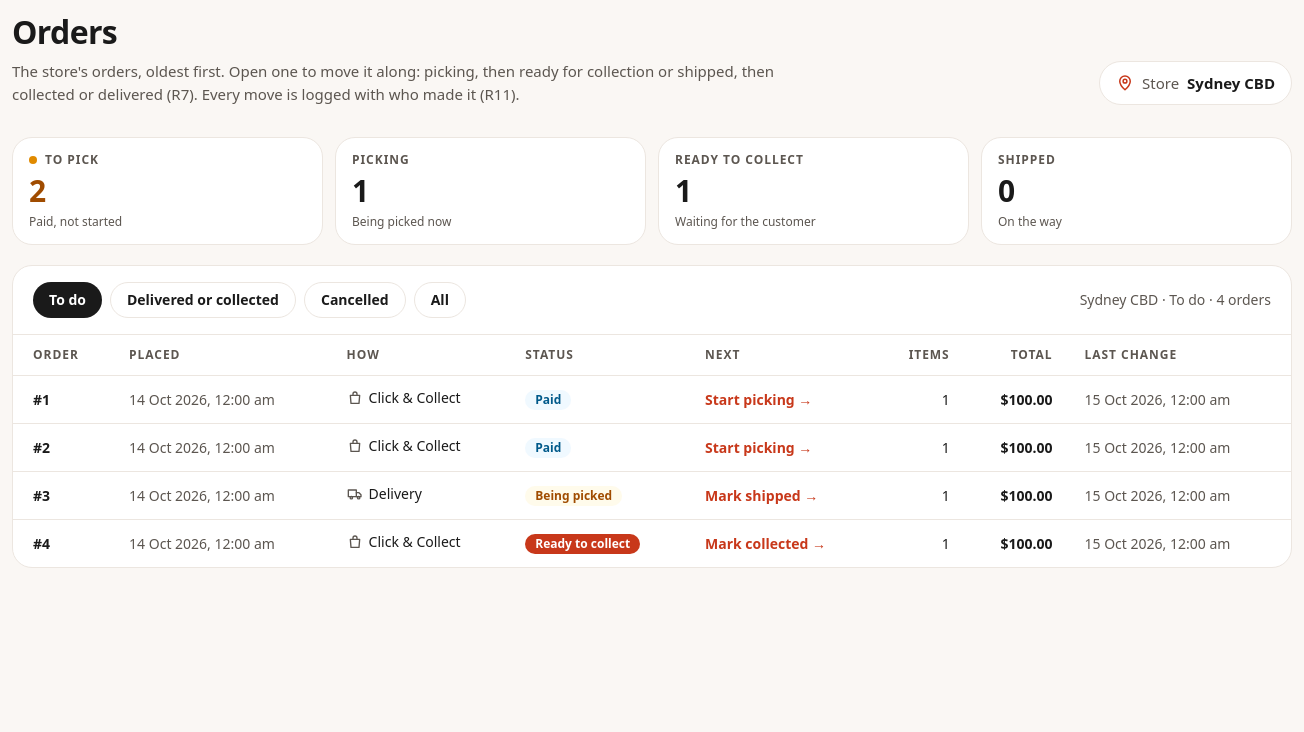
it: the store's order queue › an_empty_step_says_so_rather_than_that_nothing_is_waiting
Expected: the link "#1" is shown, [33,390,50,408]
What coordinates should you click on to do the following:
click the button "Shipped 0 On the way"
I would click on:
 (1027, 160)
Its box is [981,137,1292,245].
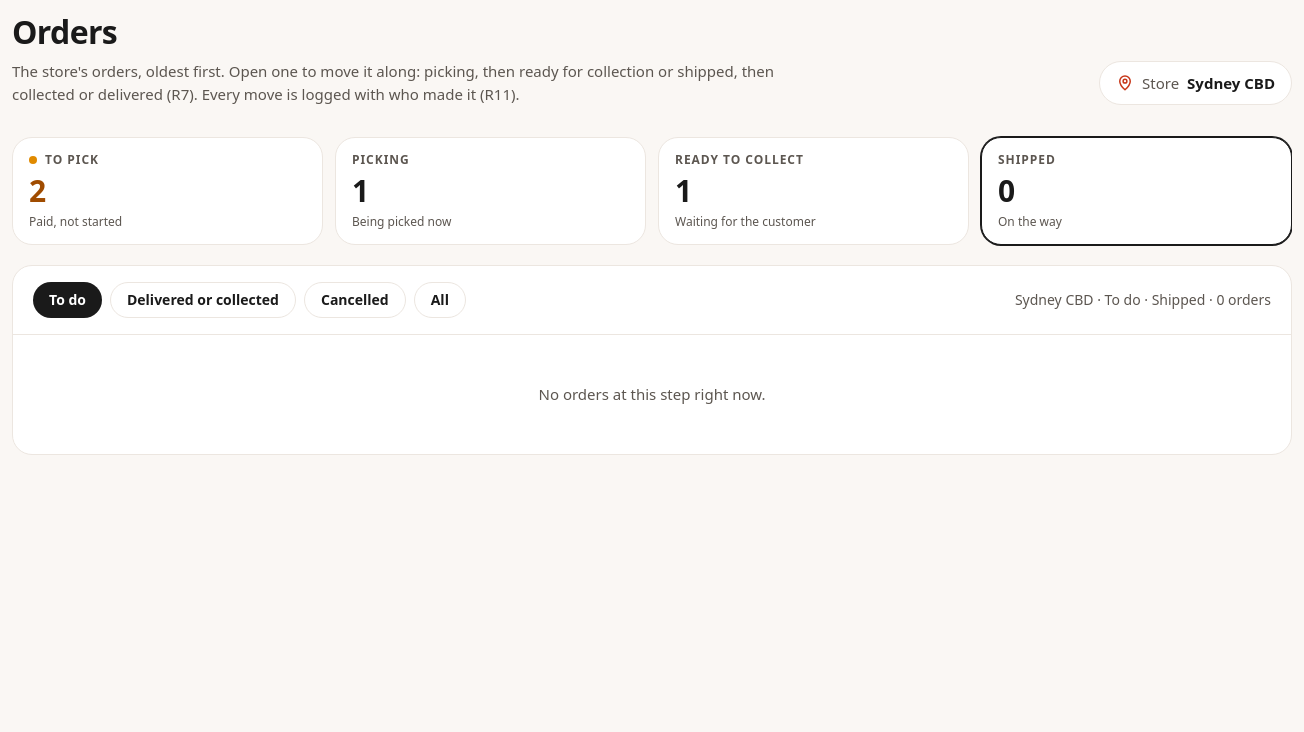
Now the text "No orders at this step right now." is shown, box [538,384,766,404]
